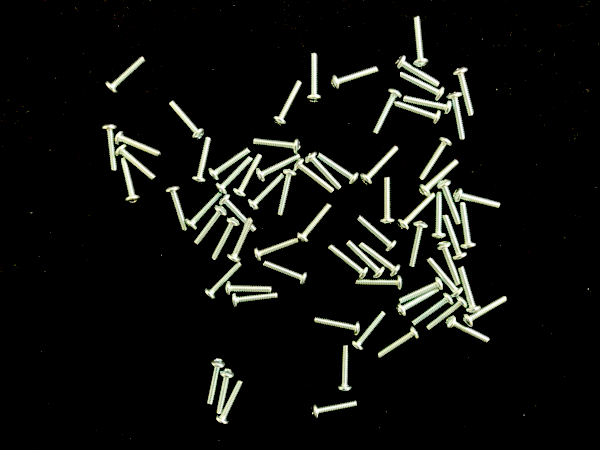longscrew: (355, 213, 399, 253), (116, 143, 158, 184), (359, 145, 401, 186), (395, 192, 438, 232), (103, 56, 147, 95), (345, 239, 386, 280), (425, 257, 465, 299), (167, 100, 206, 143), (359, 240, 403, 278), (418, 136, 453, 183), (214, 155, 255, 195), (184, 191, 226, 230), (418, 159, 461, 197), (294, 158, 337, 196), (327, 243, 370, 281), (410, 293, 455, 329), (219, 194, 259, 234), (305, 151, 344, 192), (395, 55, 442, 89), (202, 262, 244, 300), (371, 88, 404, 136), (316, 152, 360, 188), (425, 296, 469, 332), (376, 326, 421, 361), (114, 129, 163, 161), (272, 79, 304, 128), (295, 203, 334, 243), (351, 310, 388, 352), (462, 295, 509, 328), (208, 147, 252, 182), (192, 205, 229, 246), (398, 71, 446, 102), (248, 173, 287, 211), (233, 153, 265, 199), (210, 216, 241, 263), (446, 315, 493, 346), (214, 379, 244, 427), (255, 153, 304, 182), (395, 288, 443, 317), (226, 217, 255, 264), (441, 213, 468, 262), (394, 100, 443, 126), (457, 266, 483, 315), (452, 67, 476, 120), (436, 240, 463, 287), (330, 66, 380, 91), (437, 179, 463, 227), (397, 278, 445, 304), (262, 261, 309, 287), (165, 184, 189, 234), (453, 188, 503, 212), (445, 91, 468, 142), (253, 238, 301, 262), (191, 136, 214, 186), (204, 357, 227, 407), (119, 156, 142, 205), (215, 368, 238, 417), (403, 94, 453, 116), (276, 168, 298, 218), (312, 315, 362, 337), (407, 220, 429, 270), (411, 15, 431, 69), (309, 399, 359, 420), (252, 136, 302, 156), (458, 202, 478, 252), (101, 121, 119, 175), (306, 52, 323, 105), (355, 274, 405, 292), (380, 176, 397, 228), (336, 343, 353, 393), (224, 282, 276, 298), (432, 189, 448, 241), (229, 293, 280, 309)
